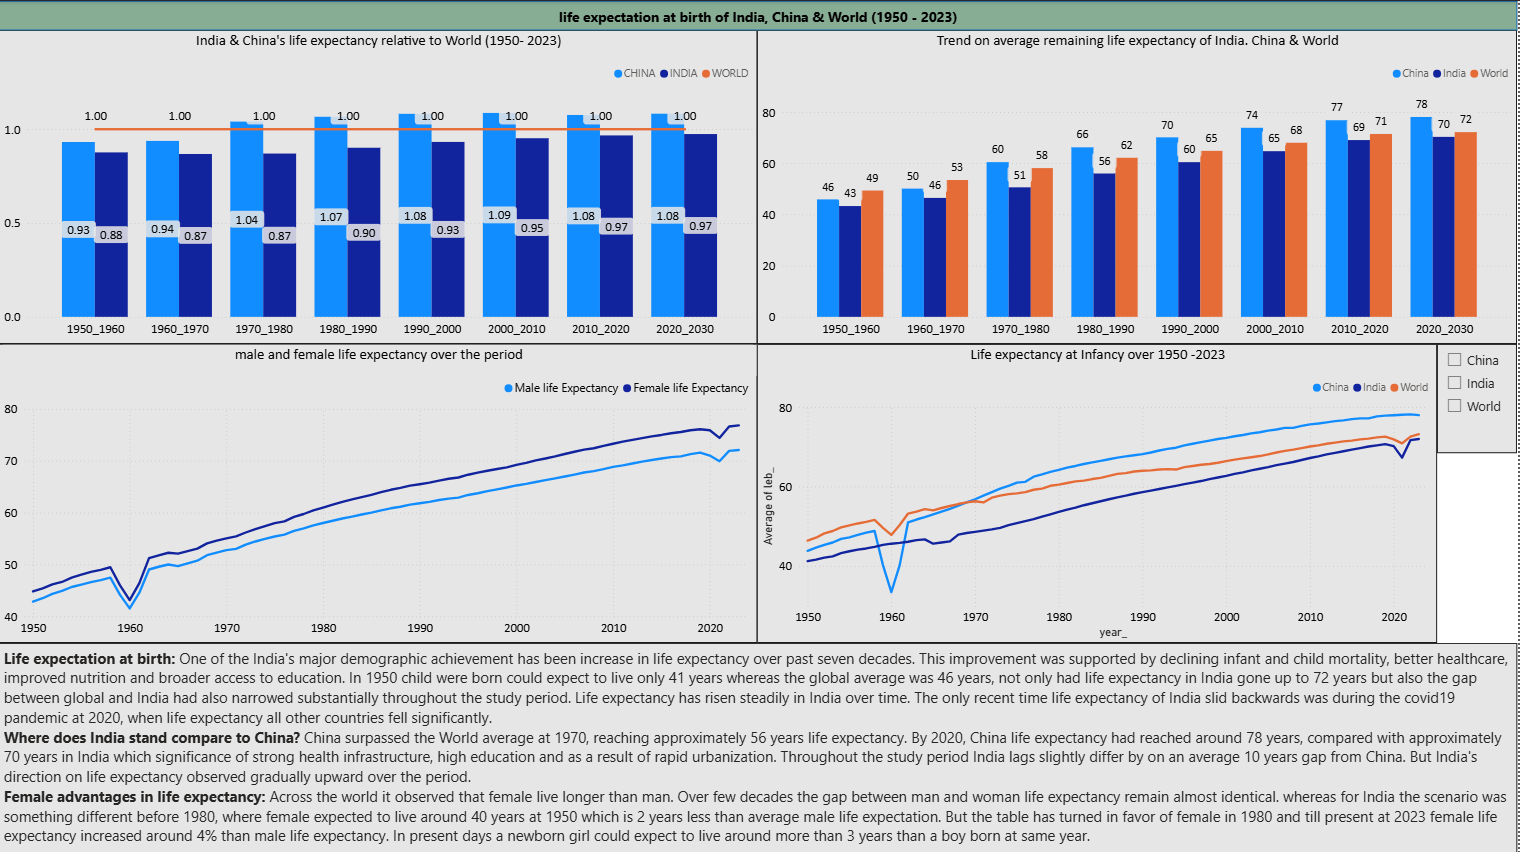

The dashboard page shown, as its layout file describes it:
{"tool":"powerbi","page":{"name":"Page 9","canvas":[1920,1080],"ordinal":8},"visuals":[{"type":"lineClusteredColumnComboChart","title":"India & China''s life expectancy relative to World (1950- 2023)","fields":{"Category":["relative_life_expc.Decade_dax"],"Y":["Avg(relative_life_expc.REL_CHINA_LE)","Avg(relative_life_expc.REL_INDIA_LE)"],"Y2":["Avg(relative_life_expc.REL_WORLD_LE)"]},"box":[0,36.7,958.6,397.1],"z":0},{"type":"clusteredColumnChart","title":"Trend on average remaining life expectancy of India. China & World","fields":{"Category":["mortality_rate.Decade_dax"],"Y":["Avg(mortality_rate.leb_)"],"Series":["mortality_rate.rsc_"]},"box":[958.6,36.7,961.1,397.1],"z":1000},{"type":"shape","box":[0,0,1920,37.1],"z":2000},{"type":"textbox","box":[0,811.9,1919.7,268.1],"z":3000},{"type":"lineChart","title":"Life expectancy at Infancy over 1950 -2023","fields":{"Category":["mortality_rate.year_"],"Y":["Avg(mortality_rate.leb_)"],"Series":["mortality_rate.rsc_"]},"box":[958.6,433.8,860,378.1],"z":4000},{"type":"lineChart","title":"male and female life expectancy over the period","fields":{"Category":["mortality_rate.year_"],"Y":["Avg(mortality_rate.mle_)","Avg(mortality_rate.fle_)"]},"box":[0,433.8,958.6,378.1],"z":5000},{"type":"slicer","fields":{"Values":["mortality_rate.rsc_"]},"box":[1818.5,433.8,101.2,137.8],"z":6000}]}

Visuals, with their boxes in screenshot pixels (x1, y1, x2, y2), scaled from the page's 1920x1080 canvas onto the 1520x852 screenshot:
"India & China''s life expectancy relative to World (1950- 2023)" lineClusteredColumnComboChart: Rect(0, 29, 759, 342)
"Trend on average remaining life expectancy of India. China & World" clusteredColumnChart: Rect(759, 29, 1519, 342)
shape: Rect(0, 0, 1519, 29)
textbox: Rect(0, 640, 1519, 851)
"Life expectancy at Infancy over 1950 -2023" lineChart: Rect(759, 342, 1440, 640)
"male and female life expectancy over the period" lineChart: Rect(0, 342, 759, 640)
slicer - mortality_rate.rsc_: Rect(1440, 342, 1519, 451)
